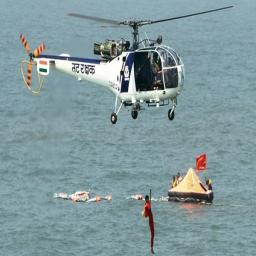helicopter: (19, 1, 240, 133)
